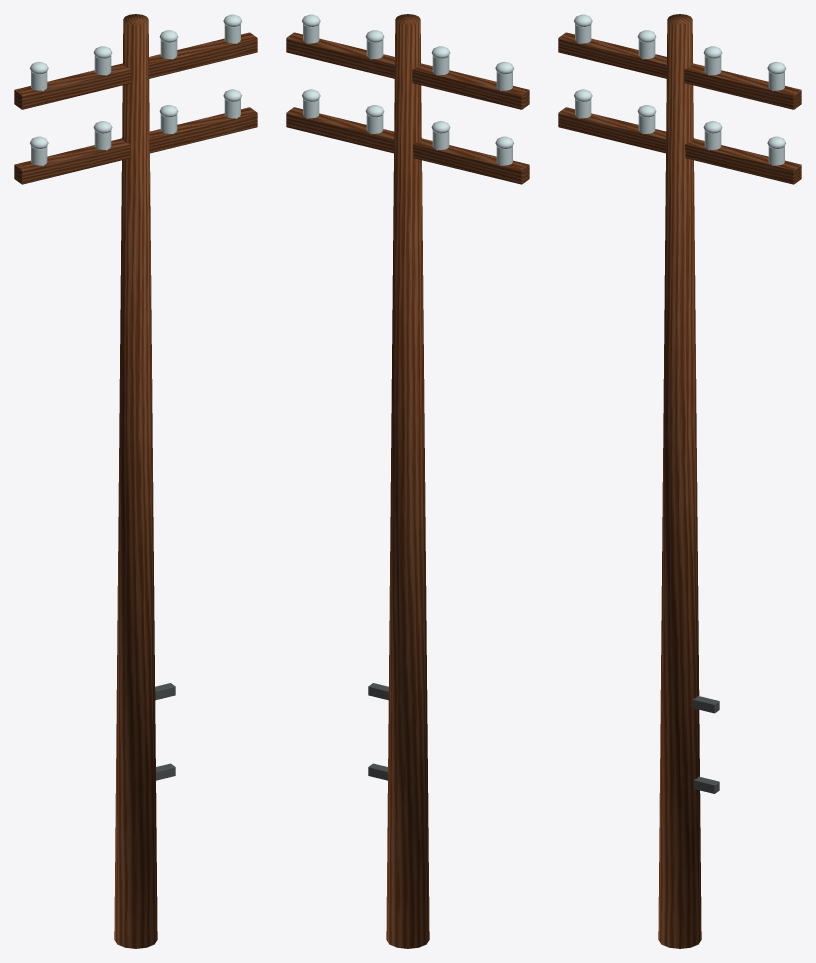
File: Telegraph_Pole_01_Detailed.fbx
3 views of the same model, side by side, from view 1: azimuth 30°, elevation 25°; view 2: azimuth 150°, elevation 25°; view 3: azimuth 330°, elevation 25° (orthographic).
Parts seen in each view (by area): view 1: Telegraph_Pole_01_Pole, Telegraph_Pole_01_Crossarm_7.55, Telegraph_Pole_01_Crossarm_6.9, Telegraph_Pole_01; view 2: Telegraph_Pole_01_Pole, Telegraph_Pole_01_Crossarm_7.55, Telegraph_Pole_01_Crossarm_6.9, Telegraph_Pole_01; view 3: Telegraph_Pole_01_Pole, Telegraph_Pole_01_Crossarm_7.55, Telegraph_Pole_01_Crossarm_6.9, Telegraph_Pole_01.
Part boxes in pixels (x1=…): Telegraph_Pole_01_Pole: x1=114, y1=14, x2=157, y2=948; Telegraph_Pole_01_Crossarm_7.55: x1=14, y1=32, x2=257, y2=109; Telegraph_Pole_01_Crossarm_6.9: x1=14, y1=107, x2=257, y2=184; Telegraph_Pole_01: x1=155, y1=683, x2=175, y2=780; Telegraph_Pole_01_Pole: x1=386, y1=14, x2=429, y2=948; Telegraph_Pole_01_Crossarm_7.55: x1=286, y1=32, x2=529, y2=109; Telegraph_Pole_01_Crossarm_6.9: x1=286, y1=107, x2=529, y2=184; Telegraph_Pole_01: x1=368, y1=683, x2=388, y2=780; Telegraph_Pole_01_Pole: x1=658, y1=14, x2=701, y2=948; Telegraph_Pole_01_Crossarm_7.55: x1=558, y1=32, x2=801, y2=109; Telegraph_Pole_01_Crossarm_6.9: x1=558, y1=107, x2=801, y2=184; Telegraph_Pole_01: x1=693, y1=696, x2=719, y2=793.
Bounding box in the file's own units: 215 × 800 × 34.
3 materials, 1 textured.
